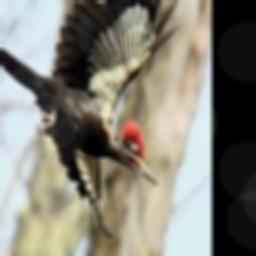Woodpecker: (0, 0, 181, 235)
